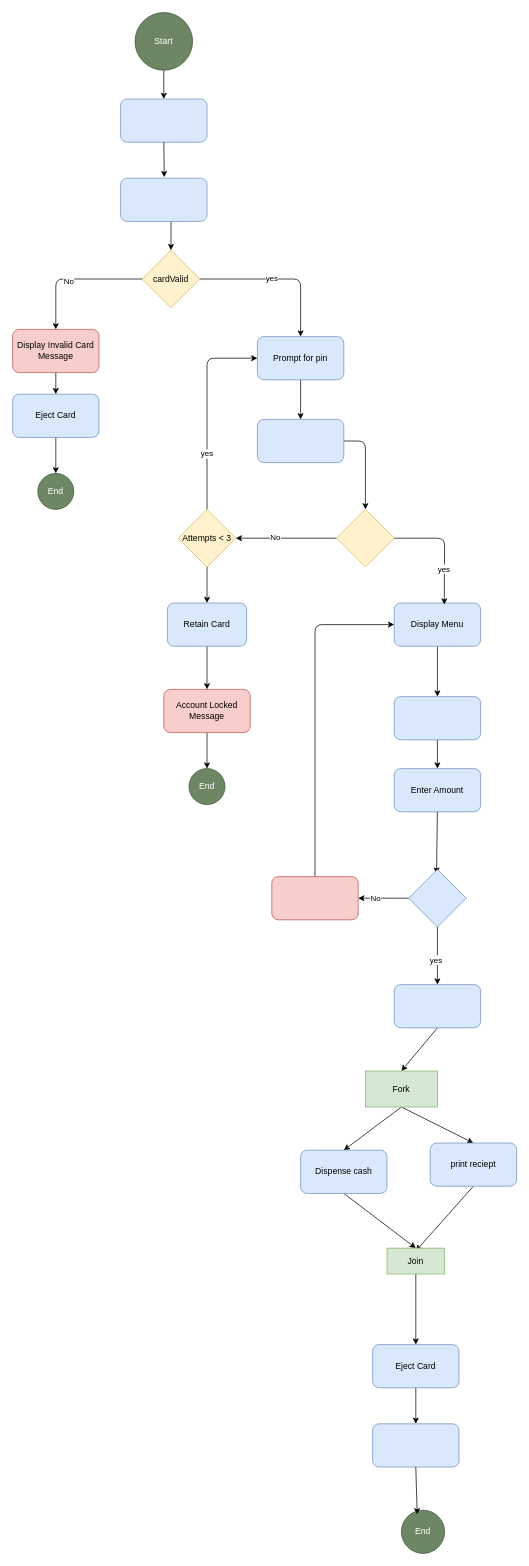
This 529x1566 diagram has some shape labels left out. Here are the shapes that lost their labels. From the top down, the box of each, then its label:
(120, 98, 207, 142): InsertCard
(120, 177, 207, 221): Readcarddata
(257, 419, 344, 463): Enter PIn
(336, 509, 394, 567): Valid
(393, 696, 481, 740): select Withdrawl
(271, 876, 358, 920): Display Insufficient Message
(408, 869, 466, 927): Sufficient Balance
(393, 984, 481, 1028): DebitAmount
(372, 1423, 459, 1467): Display Thank you message
